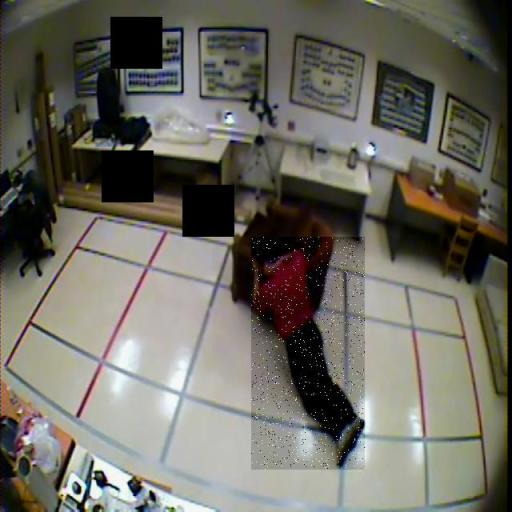Fall: (251, 237, 365, 470)
